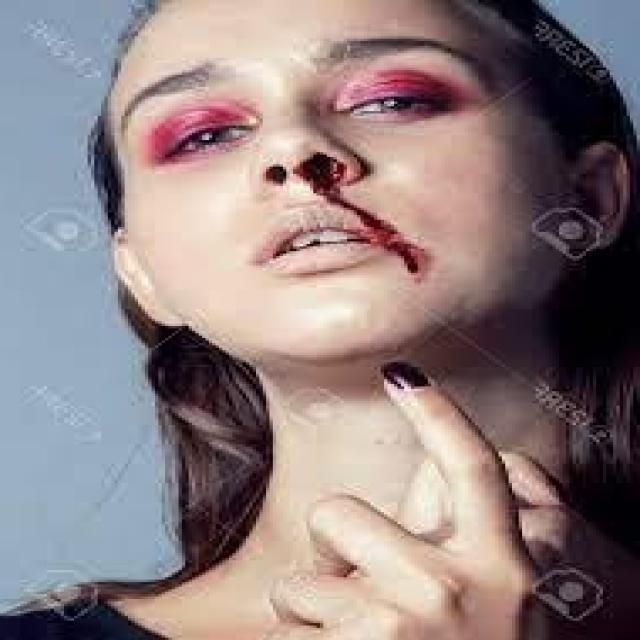flood: (286, 146, 438, 288)
